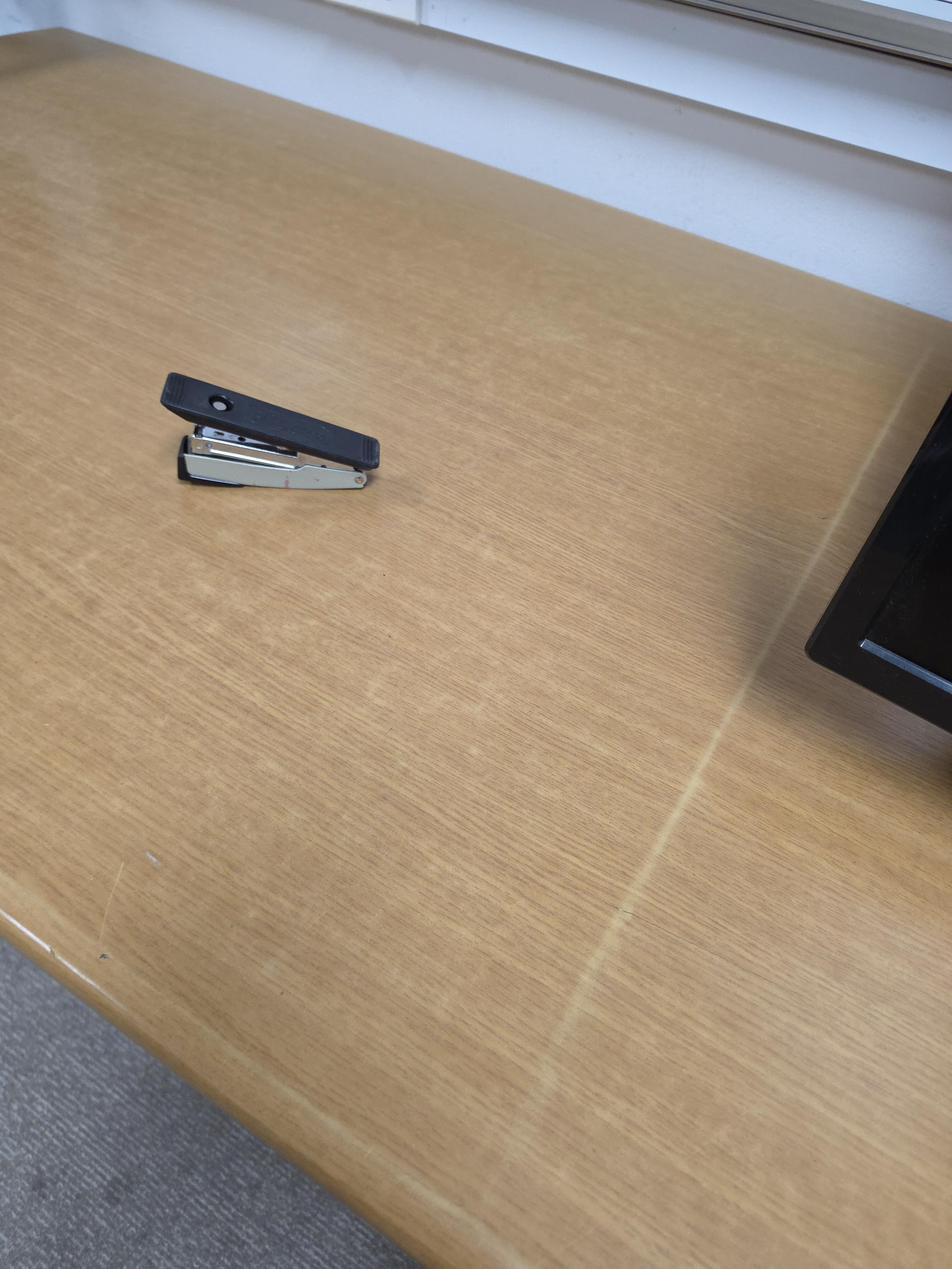stapler: (160, 372, 381, 492)
